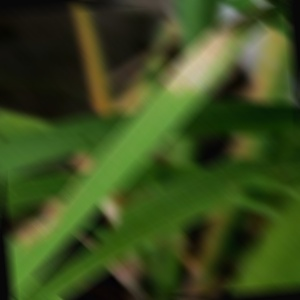Brown_Spot: (21, 198, 67, 253)
